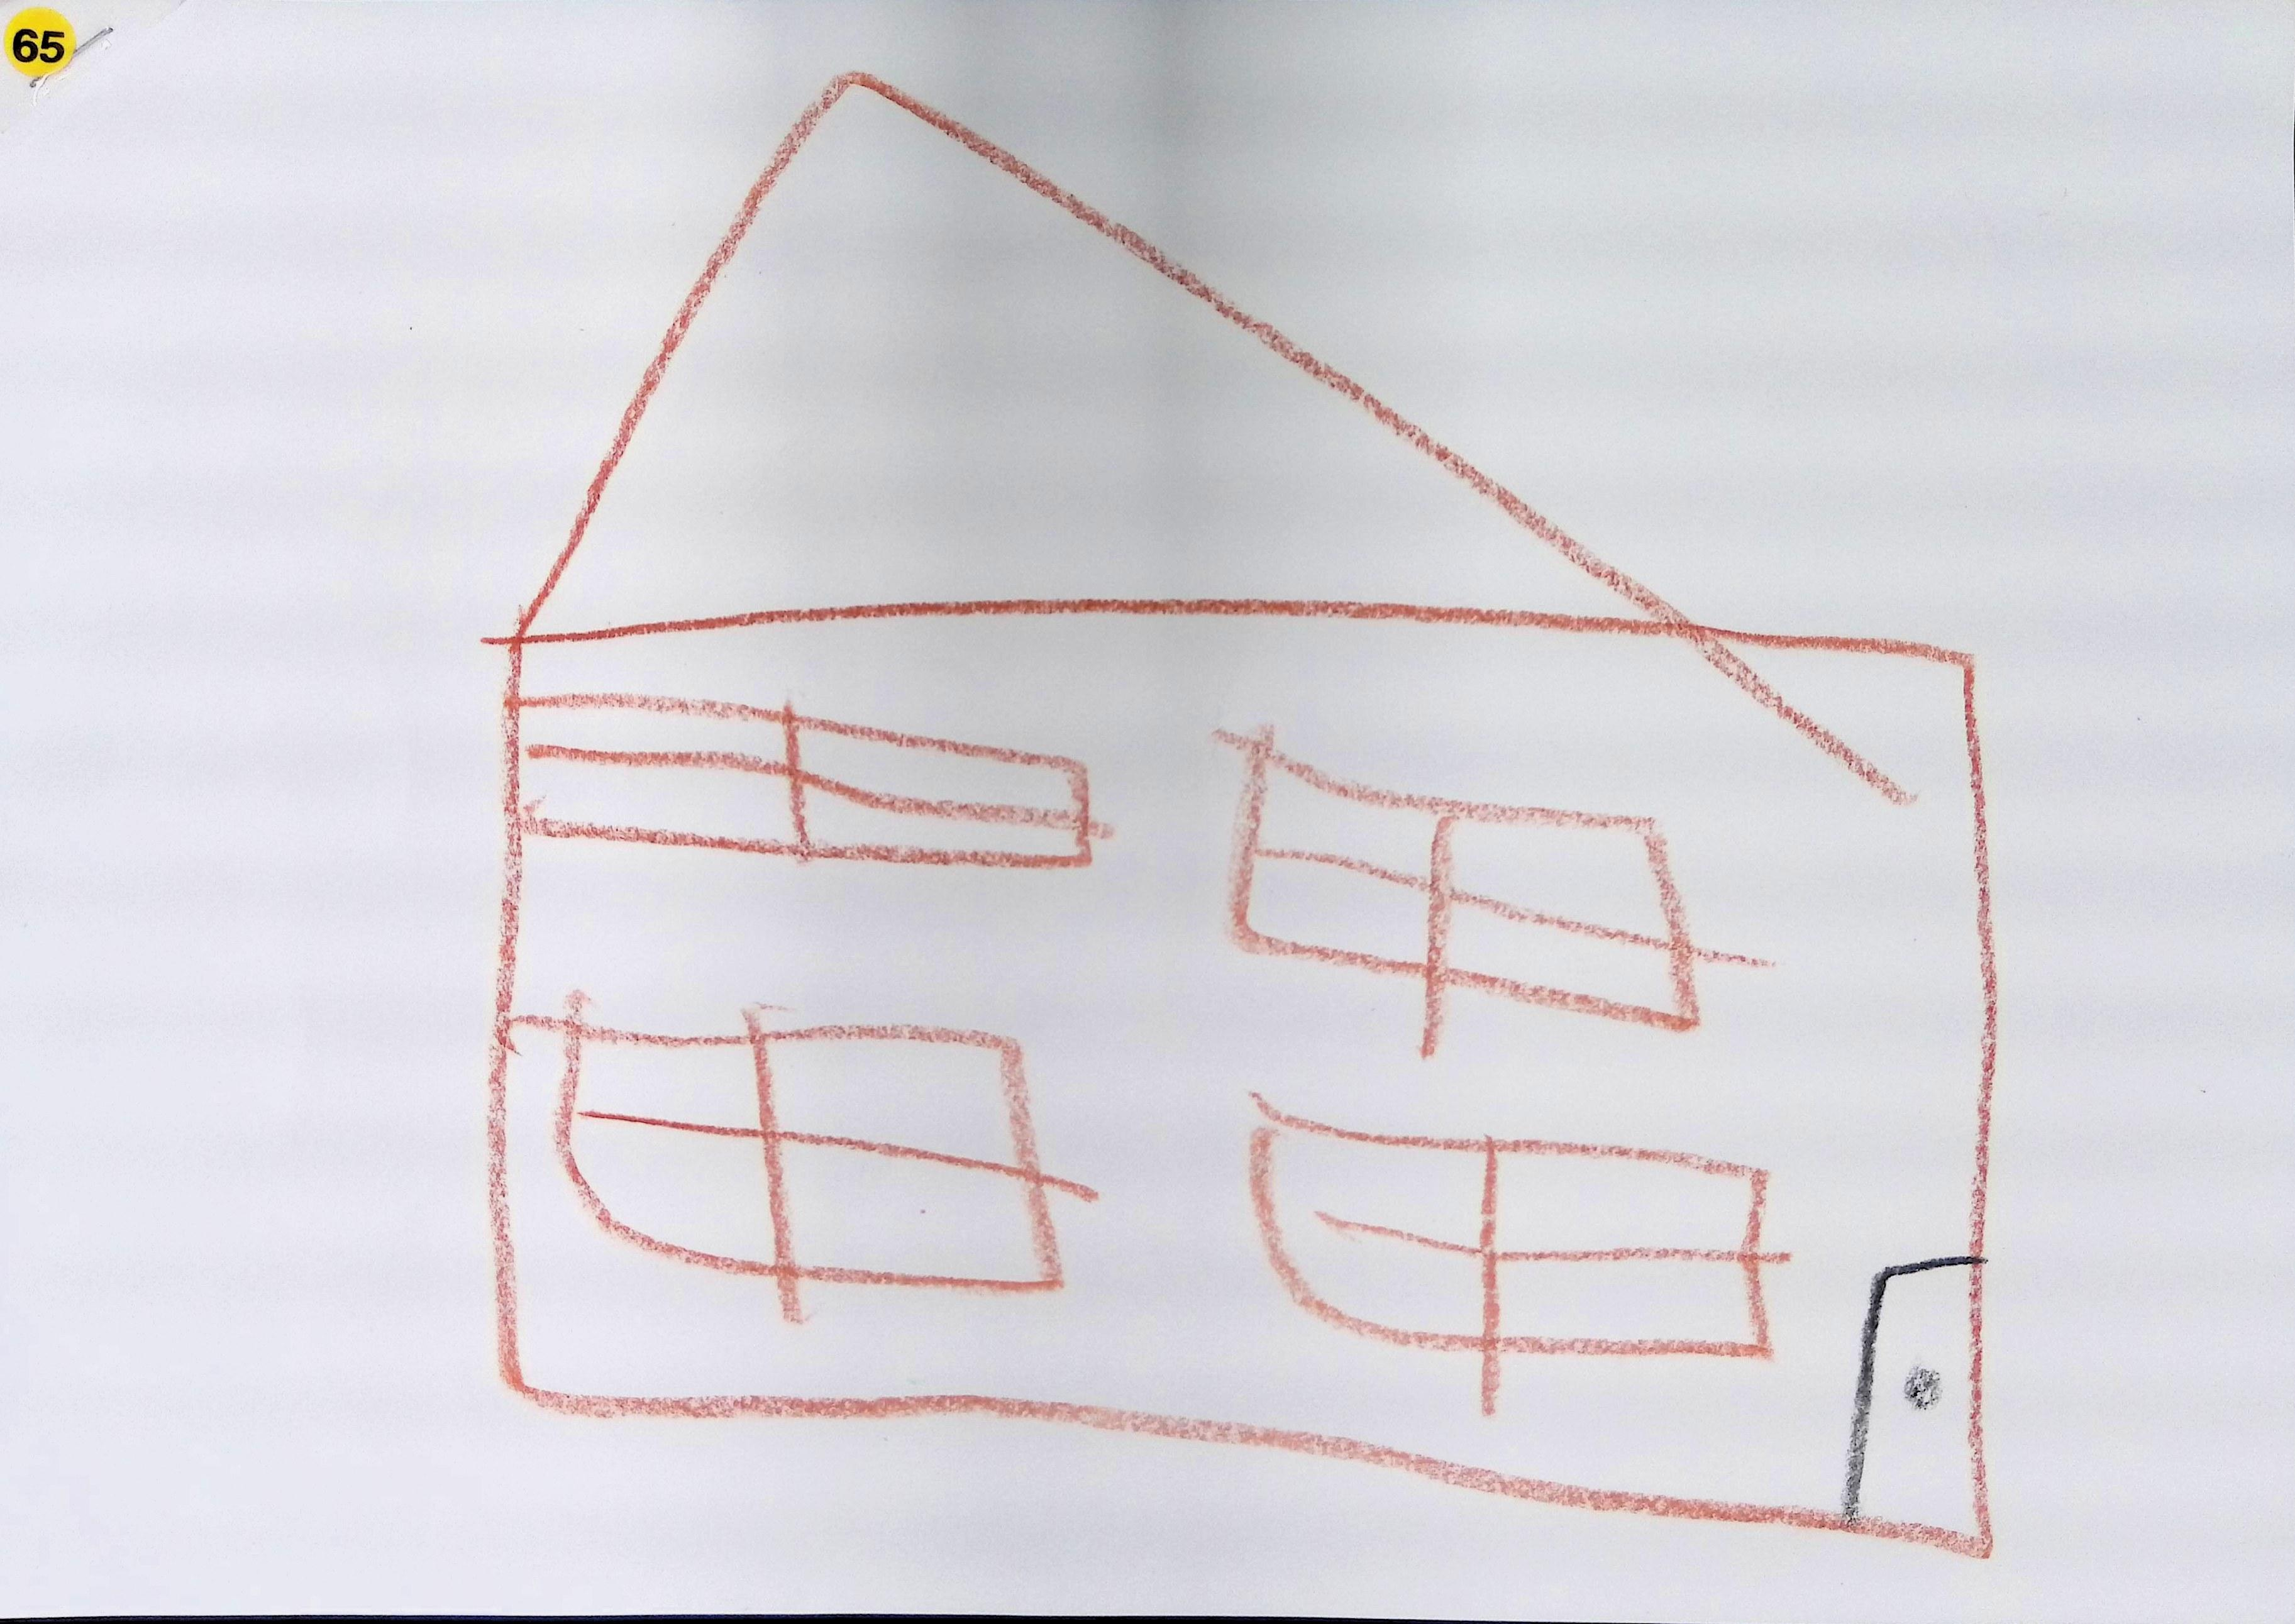door: (1836, 1253, 1995, 1552)
house: (483, 70, 2010, 1561)
roof: (515, 69, 1719, 634)
wall: (489, 599, 1998, 1557)
window: (555, 1021, 1061, 1292), (1232, 736, 1698, 1028), (1251, 1098, 1773, 1359), (518, 691, 1090, 866)
